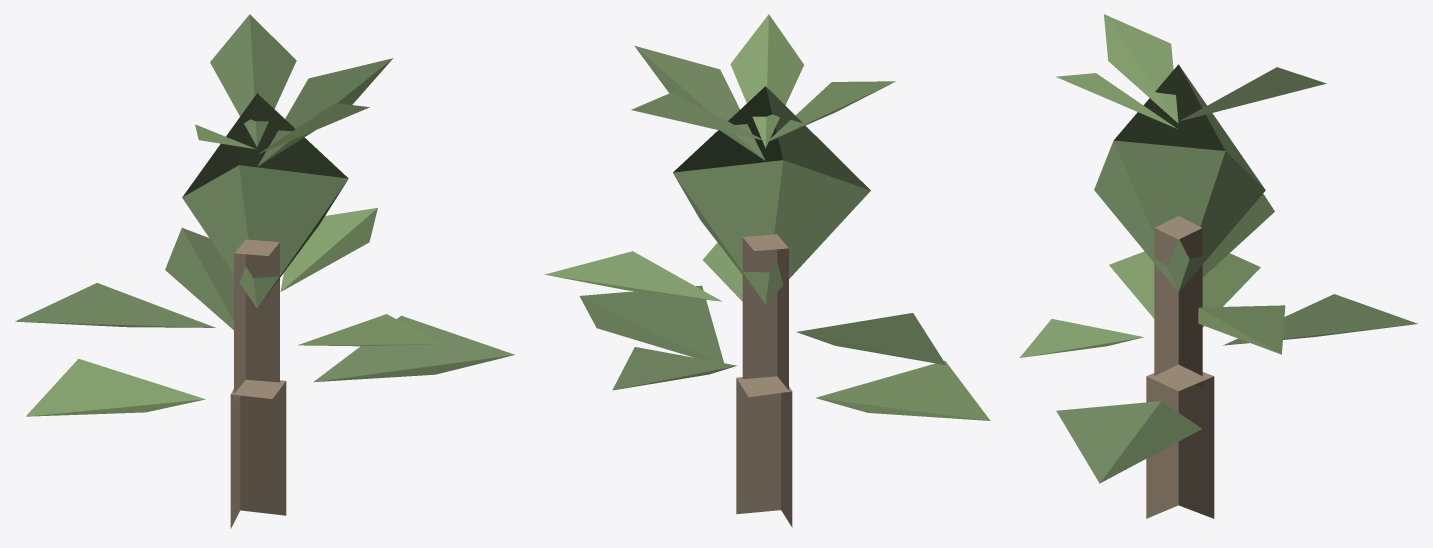
File: nong.sang@seedling__summer.glb
The picture shows the model from 3 angles, left to right: view 1: azimuth 30°, elevation 25°; view 2: azimuth 150°, elevation 25°; view 3: azimuth 270°, elevation 25°; orthographic projection. The views are drawn at different scales.
Parts seen in each view (by area): view 1: nong.sang@seedling__summer; view 2: nong.sang@seedling__summer; view 3: nong.sang@seedling__summer.
Boxes of the visible parts, x1,y1,x2,y2 form: nong.sang@seedling__summer: (15,14,514,528); nong.sang@seedling__summer: (545,14,990,527); nong.sang@seedling__summer: (1020,14,1417,518).
Size of the model in its own units: 0.7063 by 0.67 by 0.5149.
